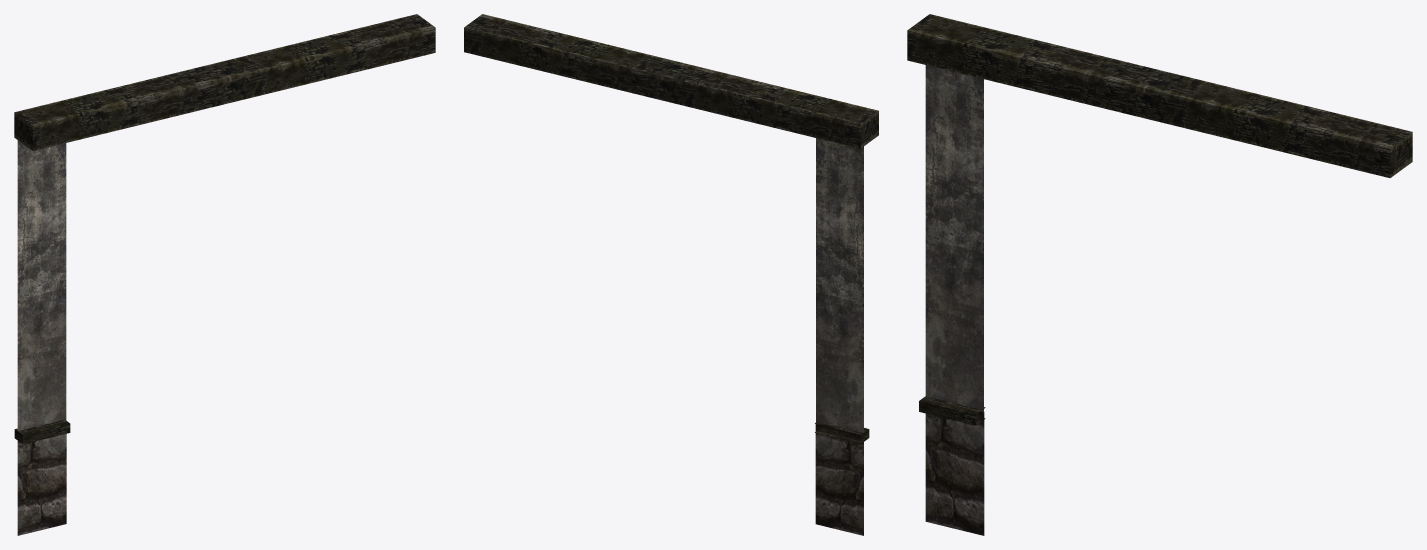
The model's file is pubwallbare_gate02.DAE.
3 views of the same model, side by side, from view 1: azimuth 30°, elevation 25°; view 2: azimuth 150°, elevation 25°; view 3: azimuth 330°, elevation 25° (orthographic). The views are drawn at different scales.
Visible parts, largest first — view 1: Object096, Object097, Object095; view 2: Object096, Object097, Object095; view 3: Object096, Object097, Object095.
Boxes of the visible parts, x1,y1,x2,y2 form: Object096: (14, 14, 435, 444); Object097: (17, 140, 66, 430); Object095: (17, 420, 66, 535); Object096: (464, 14, 878, 443); Object097: (816, 138, 863, 432); Object095: (815, 424, 863, 535); Object096: (907, 14, 1412, 425); Object097: (925, 65, 983, 411); Object095: (925, 411, 984, 535).
Bounding box in the file's own units: 4.01 × 4 × 0.3217.
